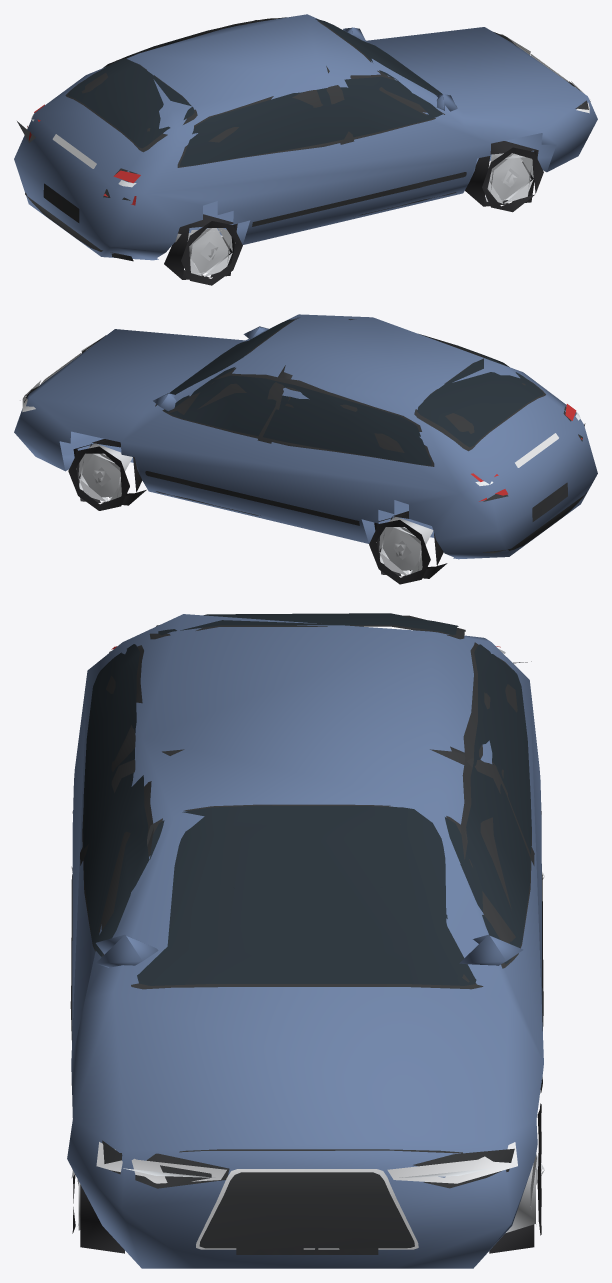
Rendered from aurore_ufar.glb.
The picture shows the model from 3 angles, top to bottom: view 1: azimuth 30°, elevation 25°; view 2: azimuth 150°, elevation 25°; view 3: azimuth 270°, elevation 25°; orthographic projection. The views are drawn at different scales.
Parts seen in each view (by area): view 1: Body, Glass-1, RearGlass, WheelFR, WheelRR, WinFrame-1, Windshield, Rub-1, RgFrame, Diffuser, PlateR, WinFrame1 (+2 smaller); view 2: Body, Glass1, RearGlass, WheelFL, WheelRL, WinFrame1, Windshield, Rub1, RgFrame, Bpillar1, PlateR, Diffuser (+1 smaller); view 3: Body, Windshield, Grille, Glass1, Glass-1, WinFrame1, HeadReflector, RearGlass, HeadBezel, WheelFL, WinFrame-1, WsFrame (+6 smaller).
Boxes of the visible parts, box(x1,y1,x2,y2) form: Body: box(14, 14, 597, 260); Glass-1: box(180, 76, 442, 166); RearGlass: box(68, 58, 194, 148); WheelFR: box(465, 141, 543, 212); WheelRR: box(164, 214, 242, 285); WinFrame-1: box(177, 74, 444, 167); Windshield: box(315, 19, 442, 94); Rub-1: box(252, 172, 466, 226); RgFrame: box(65, 58, 197, 152); Diffuser: box(25, 192, 133, 261); PlateR: box(43, 183, 79, 222); WinFrame1: box(105, 18, 281, 66); Body: box(14, 314, 597, 559); Glass1: box(164, 365, 431, 465); RearGlass: box(417, 357, 543, 447); WheelFL: box(68, 439, 146, 510); WheelRL: box(369, 511, 447, 584); WinFrame1: box(162, 373, 434, 466); Windshield: box(170, 317, 298, 394); Rub1: box(145, 471, 359, 525); RgFrame: box(414, 358, 545, 451); Bpillar1: box(257, 365, 292, 443); PlateR: box(532, 482, 567, 521); Diffuser: box(483, 492, 586, 553); Body: box(67, 614, 543, 1268); Windshield: box(137, 805, 476, 985); Grille: box(199, 1172, 414, 1248); Glass1: box(380, 644, 531, 964); Glass-1: box(83, 644, 234, 956); WinFrame1: box(460, 642, 531, 968); HeadReflector: box(96, 1142, 517, 1183); RearGlass: box(156, 613, 458, 635); HeadBezel: box(102, 1140, 514, 1188); WheelFL: box(489, 1103, 544, 1253); WinFrame-1: box(82, 645, 153, 956); WsFrame: box(131, 804, 483, 989).
Bounding box in the file's own units: 4.32 × 1.42 × 1.82.
